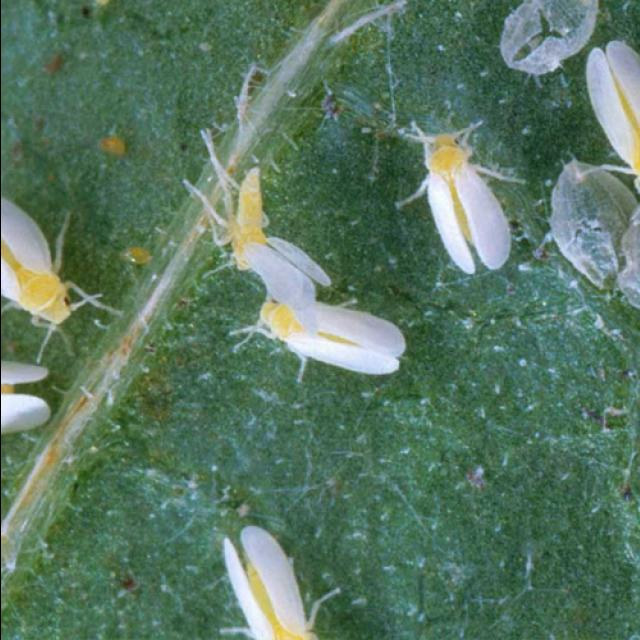whiteflies: (403, 130, 507, 281), (254, 292, 398, 386), (217, 524, 306, 640)
